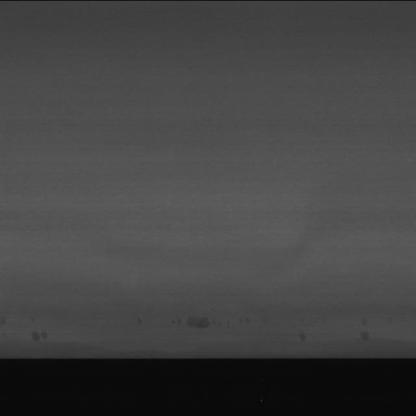oil_spot: (20, 328, 71, 348), (177, 308, 216, 334), (356, 323, 378, 343), (297, 329, 319, 341)
